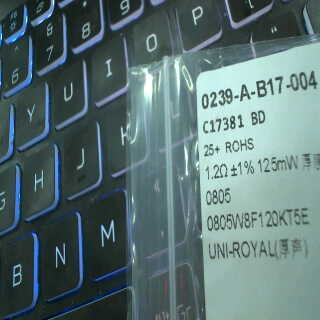1.2R: (204, 161, 230, 208)
